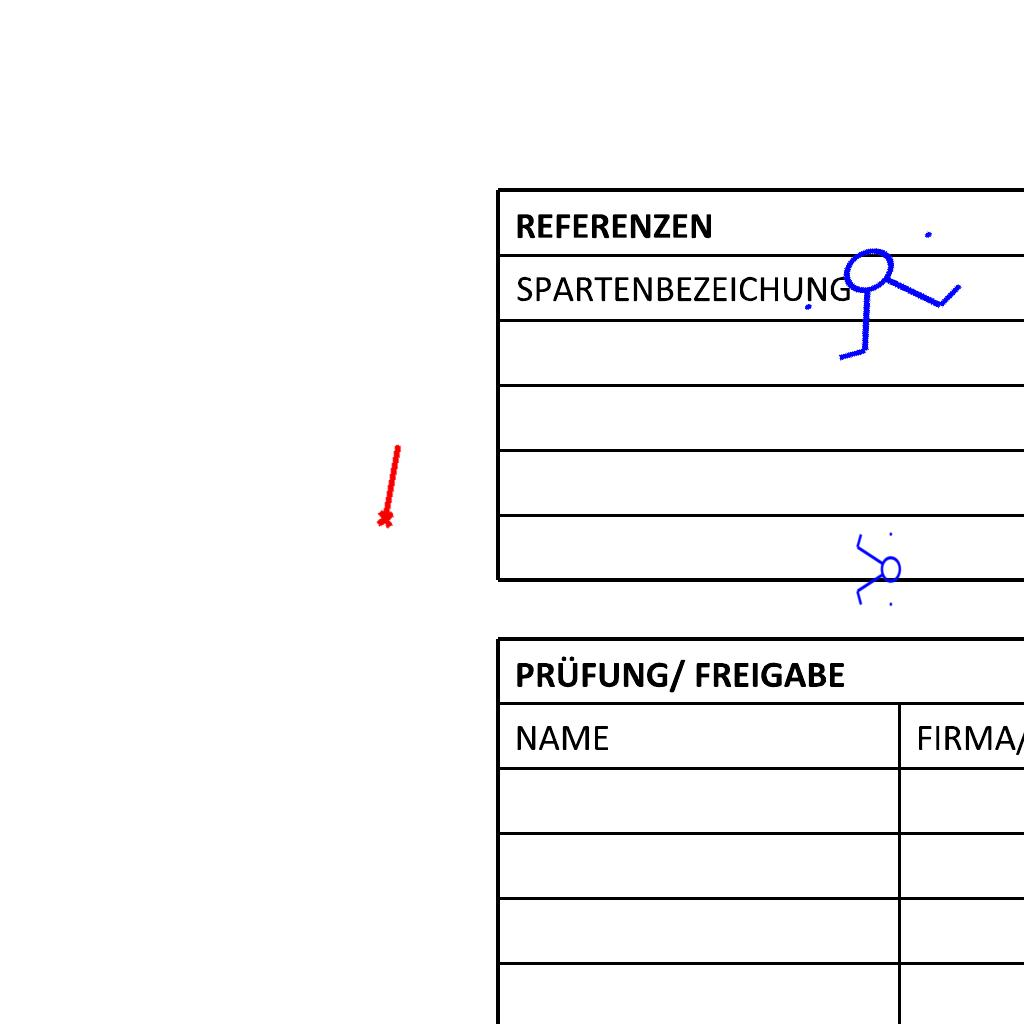ASR_Ansaugoeffnung: (371, 440, 409, 531)
Serienschalter: (786, 207, 980, 377), (854, 528, 902, 612)
